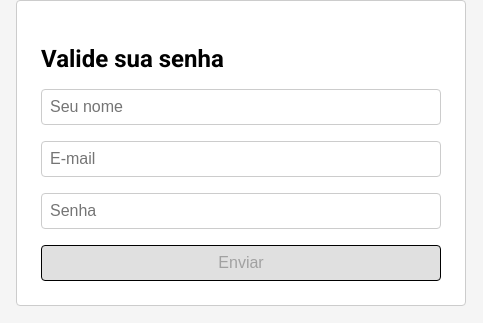
Test: RegisterForm - E2E › deve habilitar o botão quando o formulário estiver válido
In the field with placeholder "Seu nome": (241,107) [41,89,441,125], type "Felipe"
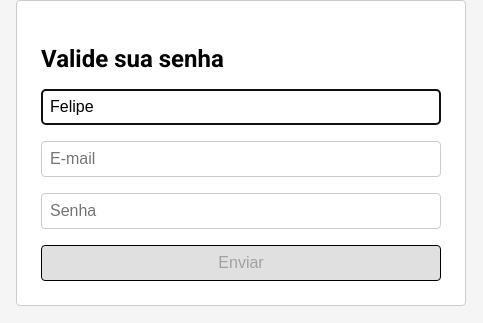
In the field with placeholder "E-mail": (241,159) [41,141,441,177], type "felipe@test.com"
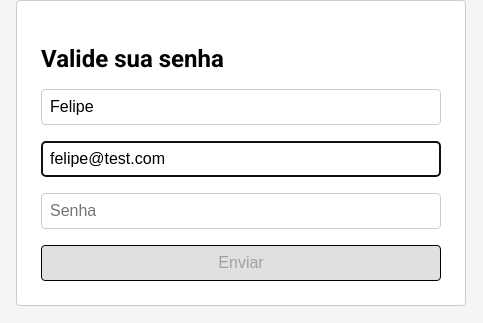
In the password field with placeholder "Senha": (241,211) [41,193,441,229], type "123456"
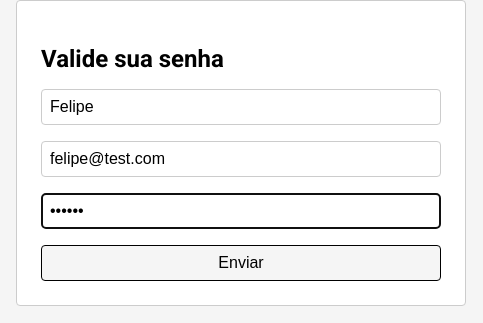
Expected: the button "Enviar" is enabled, [41,245,441,281]
